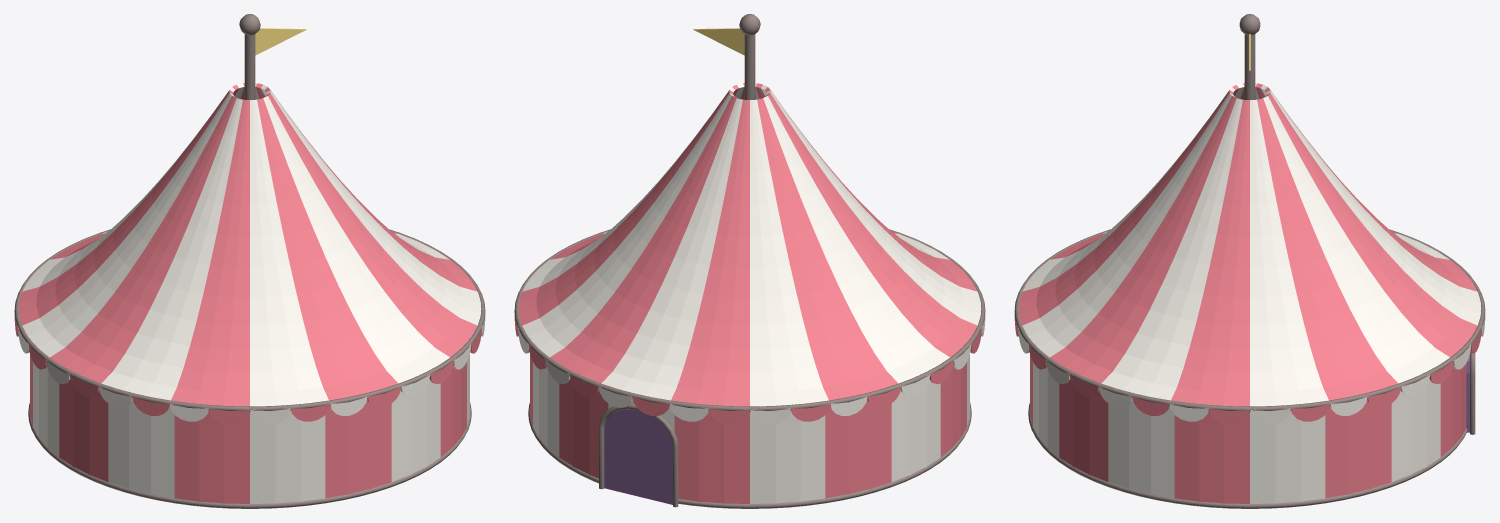
The model's file is PumpBigTop.glb.
3 views of the same model, side by side, from view 1: azimuth 30°, elevation 25°; view 2: azimuth 150°, elevation 25°; view 3: azimuth 270°, elevation 25° (orthographic).
Parts seen in each view (by area): view 1: TentA, TentB, Trim, Flag; view 2: TentA, TentB, Trim, Door, Flag; view 3: TentA, TentB, Trim.
Boxes of the visible parts, x1,y1,x2,y2 form: TentA: [14, 83, 485, 503]; TentB: [14, 83, 485, 503]; Trim: [14, 14, 485, 508]; Flag: [255, 28, 306, 55]; TentA: [514, 83, 985, 503]; TentB: [514, 83, 985, 503]; Trim: [514, 14, 985, 508]; Door: [604, 409, 672, 504]; Flag: [693, 28, 744, 55]; TentA: [1014, 83, 1485, 503]; TentB: [1014, 83, 1485, 503]; Trim: [1014, 14, 1485, 508].
Bounding box in the file's own units: 30.26 × 28.42 × 30.26.
